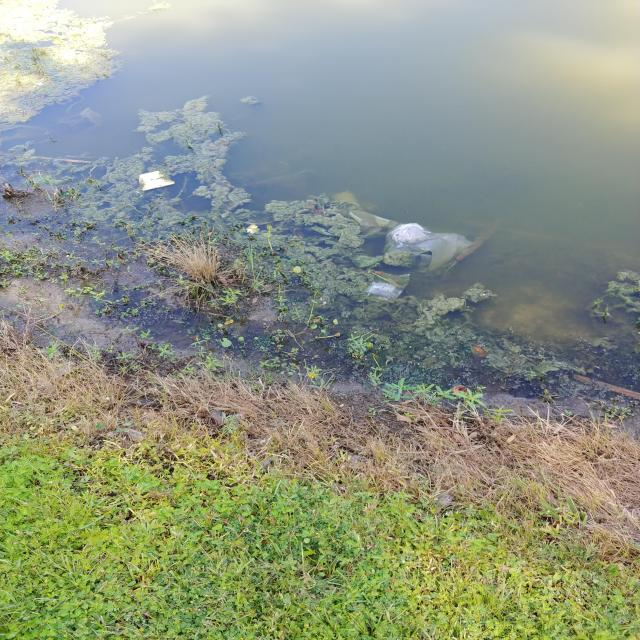litter: (386, 223, 474, 275), (358, 271, 409, 303), (348, 210, 399, 240), (139, 171, 176, 192), (452, 385, 469, 395)
